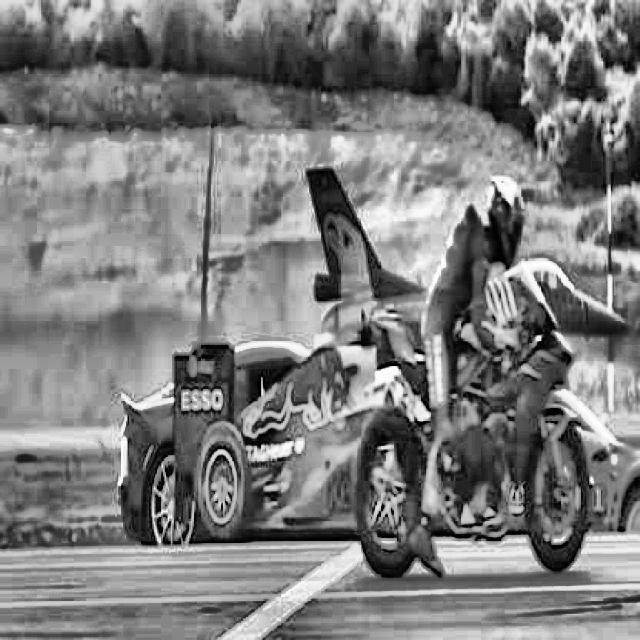F16: (305, 167, 633, 344)
